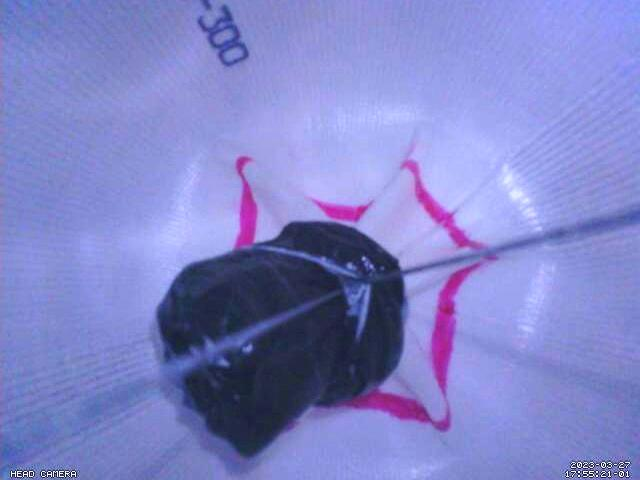red-circle: (234, 155, 495, 432)
